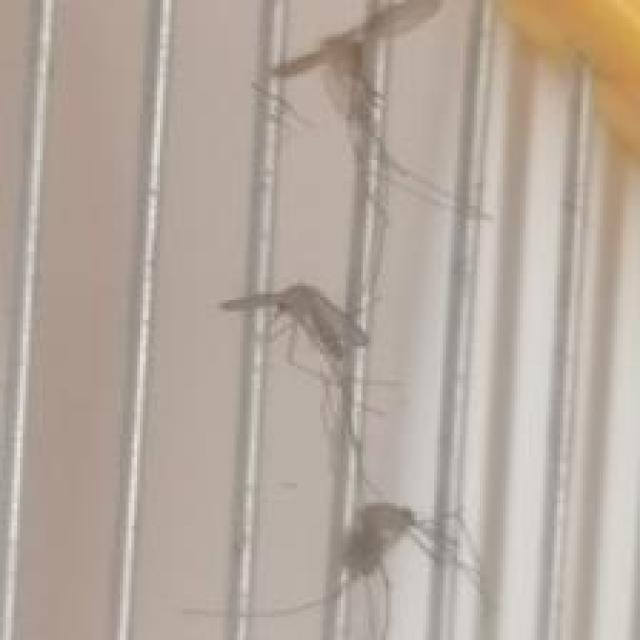Culex: (204, 0, 487, 640)
